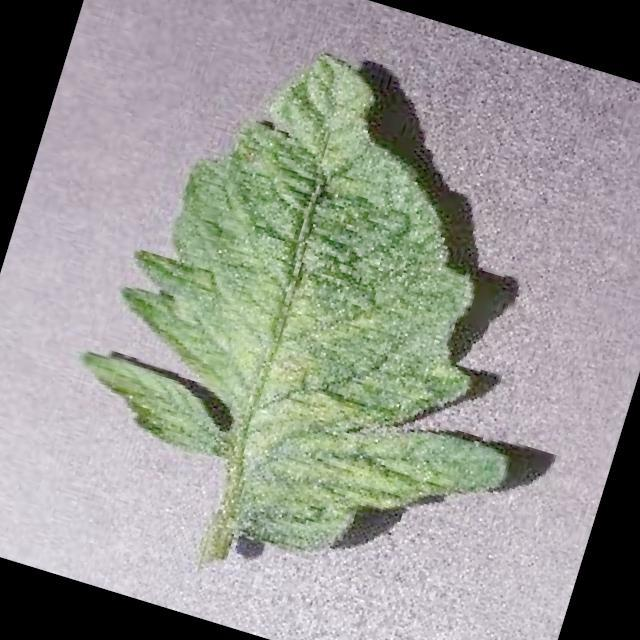Tomato mosaic virus leaf: (38, 2, 613, 610)
